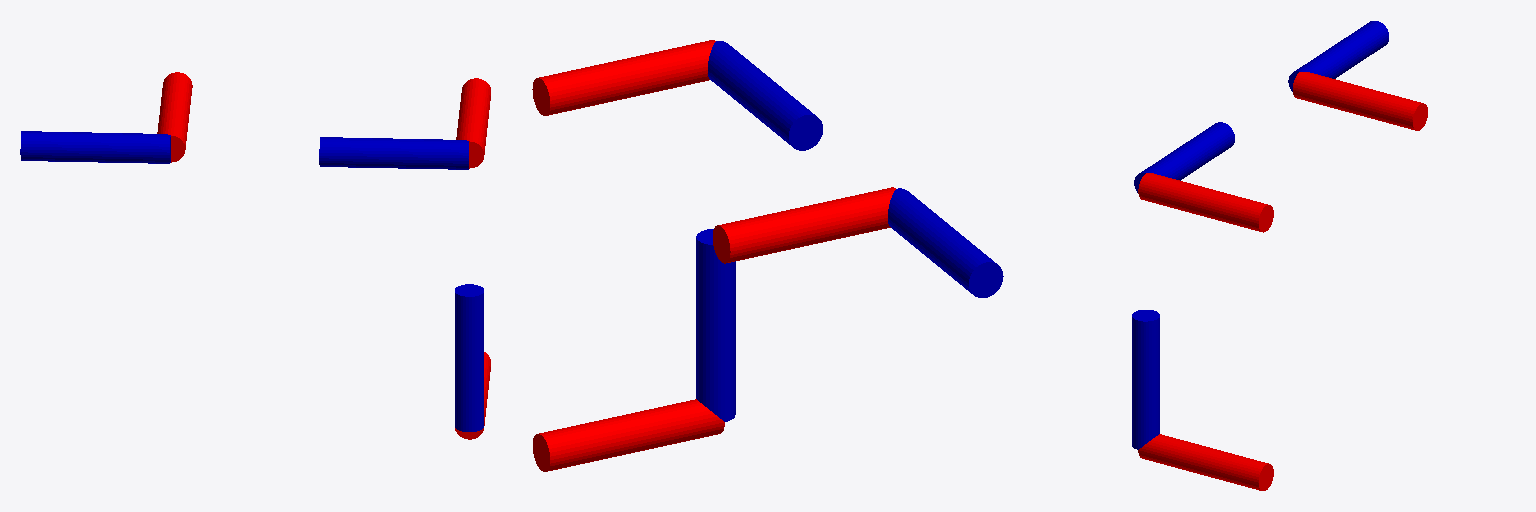
URDF robot description (example_robot):
<robot name="example_robot">
	<link name="link0_passive">
		<visual>
			<material name="blue">
				<color rgba="0 0 .8 1"/>
			</material>
			<origin xyz="0 0 0" rpy="0 0 0"/>
            <geometry>
                <cylinder length="0.0" radius="0.0"/>
            </geometry> 
		</visual>
	</link>
	<link name="link0_x_axis">
		<visual>
			<material name="red">
				<color rgba="1 0 0 1"/>
			</material>
			<geometry>
				<origin xyz="0 0 0" rpy="0 0 0"/>
				<cylinder length="0.0" radius="0.0"/>
			</geometry>
		</visual>
	</link>
	<joint name="q0_x" type="fixed">
		<origin xyz="0 0 0" rpy="0 1.571 0"/>
		<parent link="link0_passive"/>
		<child link="link0_x_axis"/>
	</joint>
	<link name="link1"/>
	<link name="link1_x_axis">
		<visual>
			<origin xyz="0 0 0.25" rpy="0 0 0"/>
			<material name="red"/>
			<geometry>
				<cylinder length="0.5" radius="0.05"/>
			</geometry>
		</visual>
	</link>
	<joint name="q1" type="revolute">
        <limit lower="-1.5708" upper="1.5708" effort="10" velocity="3"/> 
		<origin xyz="0 0 0" rpy="0 0 1"/>
		<parent link="link0_passive"/>
		<child link="link1"/>
		<axis xyz="0 0 1"/>
	</joint>
	<joint name="q1_passive" type="fixed">
		<origin xyz="0 0 0" rpy="0 0 0"/>
		<parent link="link1"/>
		<child link="link1_passive"/>
	</joint>
	<link name="link1_passive">
		<visual>
			<origin xyz="0 0 0.25" rpy="0 0 0"/>
			<material name="blue"/>
			<geometry>
				<cylinder length="0.5" radius="0.05"/>
			</geometry>
		</visual>
	</link>
	<joint name="q1_x" type="fixed">
		<origin xyz="0 0 0" rpy="0 1.571 0"/>
		<parent link="link1_passive"/>
		<child link="link1_x_axis"/>
	</joint>
	<link name="link2"/>
	<link name="link2_x_axis">
		<visual>
			<origin xyz="0 0 0.25" rpy="0 0 0"/>
			<material name="red"/>
			<geometry>
				<cylinder length="0.5" radius="0.05"/>
			</geometry>
		</visual>
	</link>
	<joint name="q2" type="prismatic">
        <limit lower="0" upper="1.0" effort="10" velocity="3"/> 
		<origin xyz="0 0 1" rpy="0 0 0"/>
		<parent link="link1_passive"/>
		<child link="link2"/>
		<axis xyz="0 0 1"/>
	</joint>
	<joint name="q2_passive" type="fixed">
		<origin xyz="0 0 0" rpy="-1.5707963267948966 0 0"/>
		<parent link="link2"/>
		<child link="link2_passive"/>
	</joint>
	<link name="link2_passive">
		<visual>
			<origin xyz="0 0 0.25" rpy="0 0 0"/>
			<material name="blue"/>
			<geometry>
				<cylinder length="0.5" radius="0.05"/>
			</geometry>
		</visual>
	</link>
	<joint name="q2_x" type="fixed">
		<origin xyz="0 0 0" rpy="0 1.571 0"/>
		<parent link="link2_passive"/>
		<child link="link2_x_axis"/>
	</joint>
	<link name="link3"/>
	<link name="link3_x_axis">
		<visual>
			<origin xyz="0 0 0.25" rpy="0 0 0"/>
			<material name="red"/>
			<geometry>
				<cylinder length="0.5" radius="0.05"/>
			</geometry>
		</visual>
	</link>
	<joint name="q3" type="prismatic">
        <limit lower="0" upper="1.0" effort="10" velocity="3"/>
		<origin xyz="0 0 1" rpy="0 0 0"/>
		<parent link="link2_passive"/>
		<child link="link3"/>
		<axis xyz="0 0 1"/>
	</joint>
	<joint name="q3_passive" type="fixed">
		<origin xyz="0 0 0" rpy="0 0 0"/>
		<parent link="link3"/>
		<child link="link3_passive"/>
	</joint>
	<link name="link3_passive">
		<visual>
			<origin xyz="0 0 0.25" rpy="0 0 0"/>
			<material name="blue"/>
			<geometry>
				<cylinder length="0.5" radius="0.05"/>
			</geometry>
		</visual>
	</link>
	<joint name="q3_x" type="fixed">
		<origin xyz="0 0 0" rpy="0 1.571 0"/>
		<parent link="link3_passive"/>
		<child link="link3_x_axis"/>
	</joint>
</robot>

--- Render facts (derived) ---
3 views of the same robot in one strip: view 1: azimuth 30°, elevation 25°; view 2: azimuth 150°, elevation 25°; view 3: azimuth 270°, elevation 25° (orthographic).
Model example_robot with 11 links and 10 joints (1 revolute, 2 prismatic, 7 fixed), rooted at link0_passive, posed every joint at zero.
Visible links, largest first — view 1: link3_passive, link2_passive, link1_passive, link2_x_axis, link3_x_axis; view 2: link1_x_axis, link3_x_axis, link2_x_axis, link1_passive, link2_passive, link3_passive; view 3: link2_x_axis, link3_x_axis, link1_passive, link1_x_axis, link2_passive, link3_passive.
Link boxes in pixels (<box>): link3_passive: <box>20,131,170,163</box>; link2_passive: <box>319,137,468,169</box>; link1_passive: <box>455,284,483,431</box>; link2_x_axis: <box>456,78,490,168</box>; link3_x_axis: <box>157,72,192,162</box>; link1_x_axis: <box>533,399,724,471</box>; link3_x_axis: <box>713,187,895,263</box>; link2_x_axis: <box>532,40,715,115</box>; link1_passive: <box>696,229,735,421</box>; link2_passive: <box>708,41,822,150</box>; link3_passive: <box>888,188,1003,297</box>; link2_x_axis: <box>1138,173,1273,232</box>; link3_x_axis: <box>1293,72,1427,130</box>; link1_passive: <box>1132,310,1159,449</box>; link1_x_axis: <box>1138,434,1273,490</box>; link2_passive: <box>1134,122,1234,192</box>; link3_passive: <box>1288,21,1388,91</box>.
Bounding box of the posed robot: 1.6 × 1.04 × 1.1 m (x, y, z).
Geometry: primitives only (box / cylinder / sphere), no mesh files.